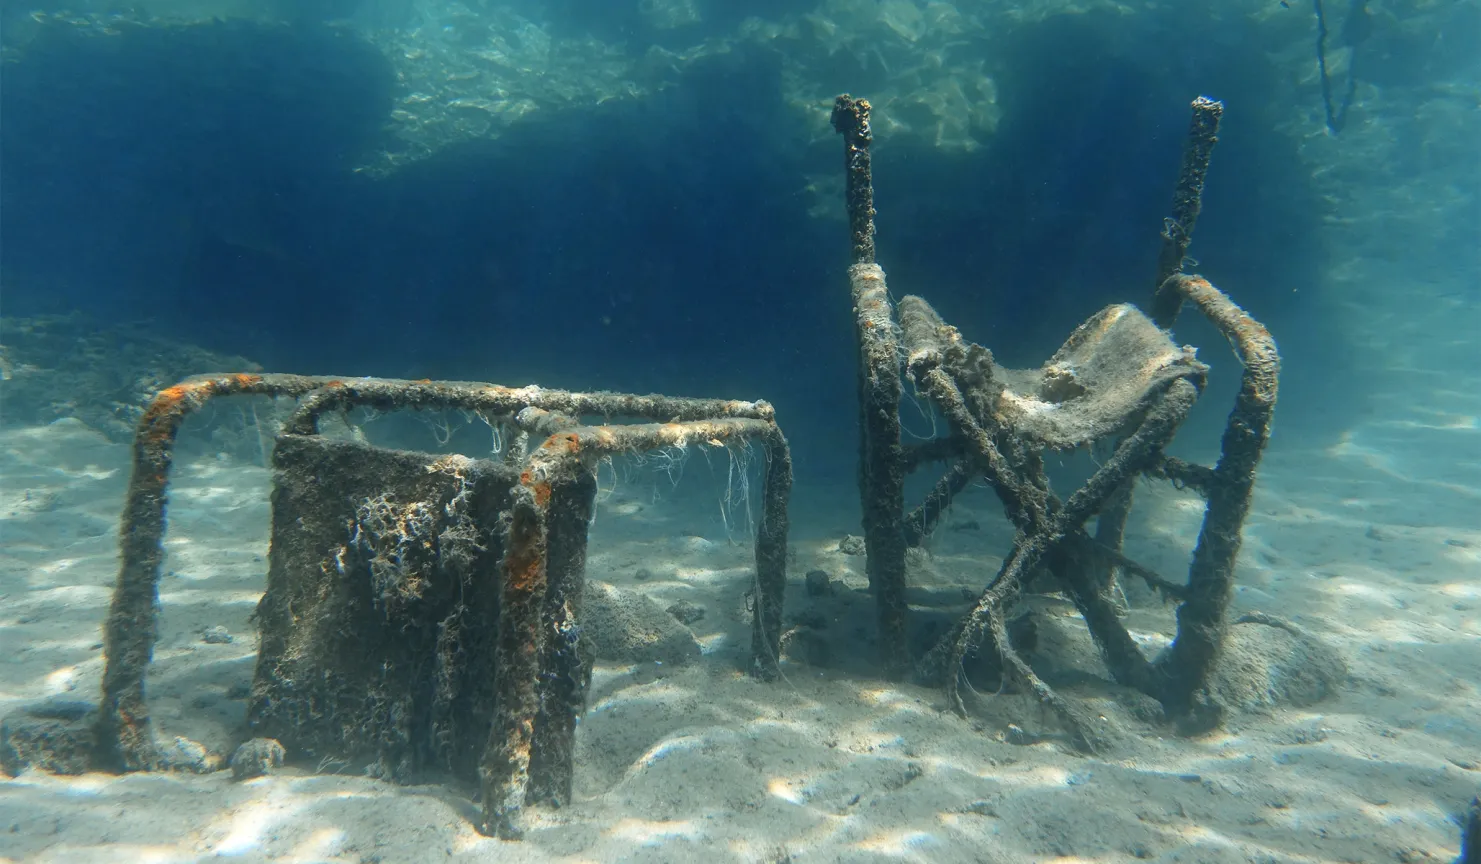Metal: (89, 370, 793, 829), (830, 94, 1284, 745)
